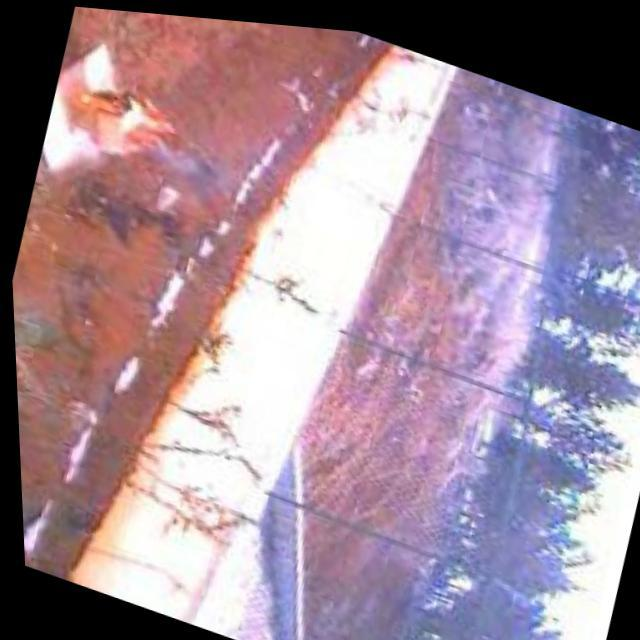fire: (45, 63, 226, 187)
